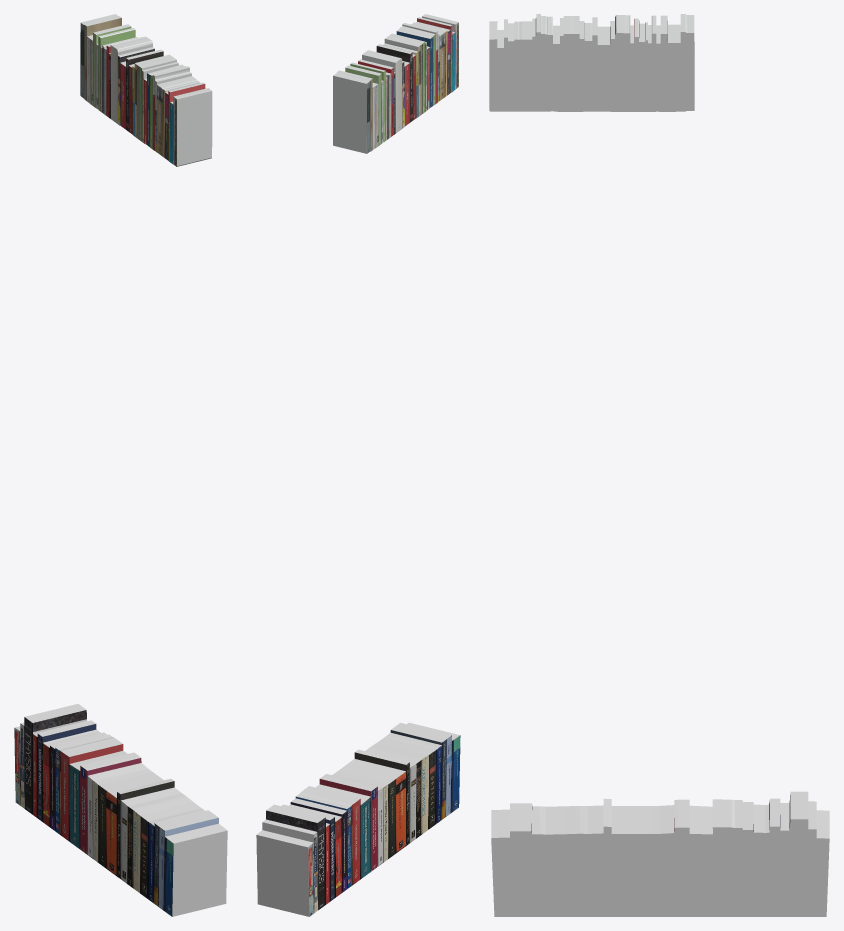
Rendered from books.glb.
3 renders of one model, left to right at view 1: azimuth 30°, elevation 25°; view 2: azimuth 150°, elevation 25°; view 3: azimuth 270°, elevation 25°, orthographic. The views are drawn at different scales.
Parts seen in each view (by area): view 1: books; view 2: books; view 3: books.
Part boxes in pixels (box(x1,y1,x2,y2)): books: box(14, 14, 227, 916); books: box(256, 14, 460, 916); books: box(489, 14, 829, 916).
Size of the model in its own units: 0.1591 by 2.33 by 0.8192.
3 materials, 2 textured.
